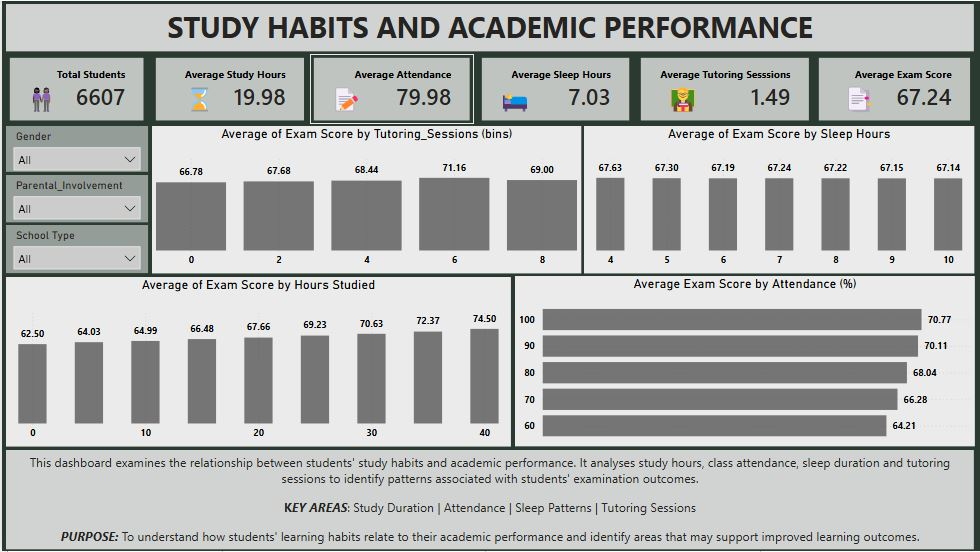

This screenshot's page, from the dashboard's own definition file:
{"tool":"powerbi","page":{"name":"Study Habits and Academic Performance","canvas":[1280,720],"ordinal":1},"visuals":[{"type":"textbox","box":[5.8,4.3,1267.2,61.9],"z":0},{"type":"clusteredColumnChart","fields":{"Category":["Student Performance Factors.Hours Studied"],"Y":["Avg(Student Performance Factors.Exam Score)"]},"box":[5.8,361.4,661,221.8],"z":1000},{"type":"clusteredBarChart","title":"Average Exam Score by Attendance (%)","fields":{"Category":["Student Performance Factors.Attendance (bins)"],"Y":["Avg(Student Performance Factors.Exam Score)"]},"box":[671,360,601.9,223.2],"z":2000},{"type":"clusteredColumnChart","fields":{"Category":["Student Performance Factors.Sleep Hours"],"Y":["Avg(Student Performance Factors.Exam Score)"]},"box":[761.8,164.2,511.2,193],"z":3000},{"type":"clusteredColumnChart","fields":{"Category":["Student Performance Factors.Tutoring_Sessions (bins)"],"Y":["Avg(Student Performance Factors.Exam Score)"]},"box":[195.8,164.2,561.6,193],"z":4000},{"type":"slicer","fields":{"Values":["Student Performance Factors.Gender"]},"box":[5.8,164.2,185.8,60.5],"z":5000},{"type":"slicer","fields":{"Values":["Student Performance Factors.School_Type"]},"box":[5.8,293.8,185.8,63.4],"z":6000},{"type":"slicer","fields":{"Values":["Student Performance Factors.Parental_Involvement"]},"box":[5.8,227.5,185.8,61.9],"z":7000},{"type":"cardVisual","fields":{"Data":["Student's Performance Measure.Total Students"]},"box":[5.8,69.1,185.8,92.2],"z":8000},{"type":"cardVisual","fields":{"Data":["Student's Performance Measure.Average Study Hours"]},"box":[195.8,69.1,204.5,92.2],"z":9000},{"type":"cardVisual","fields":{"Data":["Student's Performance Measure.Average Attendance"]},"box":[403.2,69.1,214.6,92.2],"z":10000},{"type":"cardVisual","fields":{"Data":["Student's Performance Measure.Average Sleep Hours"]},"box":[623.5,69.1,203,92.2],"z":11000},{"type":"cardVisual","fields":{"Data":["Student's Performance Measure.Average Tutoring Sesssions"]},"box":[830.9,69.1,230.4,92.2],"z":12000},{"type":"cardVisual","fields":{"Data":["Student's Performance Measure.Average Exam Score"]},"box":[1064.2,69.1,208.8,92.2],"z":13000},{"type":"textbox","box":[5.8,587.5,1267.2,129.6],"z":14000},{"type":"textbox","box":[1093,99.4,60.5,57.6],"z":15000},{"type":"textbox","box":[861.1,99.4,60.5,57.6],"z":16000},{"type":"textbox","box":[640.8,99.4,60.5,57.6],"z":17000},{"type":"textbox","box":[421.9,99.4,54.7,57.6],"z":18000},{"type":"textbox","box":[231.8,99.4,54.7,57.6],"z":19000},{"type":"textbox","box":[24.5,99.4,54.7,57.6],"z":20000}]}

Visuals, with their boxes in screenshot pixels (x1, y1, x2, y2), scaled from the page's 1280x720 canvas onto the 980x552 screenshot:
textbox: l=4, t=3, r=975, b=51
clusteredColumnChart - Student Performance Factors.Hours Studied x Avg(Student Performance Factors.Exam Score): l=4, t=277, r=511, b=447
"Average Exam Score by Attendance (%)" clusteredBarChart: l=514, t=276, r=975, b=447
clusteredColumnChart - Student Performance Factors.Sleep Hours x Avg(Student Performance Factors.Exam Score): l=583, t=126, r=975, b=274
clusteredColumnChart - Student Performance Factors.Tutoring_Sessions (bins) x Avg(Student Performance Factors.Exam Score): l=150, t=126, r=580, b=274
slicer - Student Performance Factors.Gender: l=4, t=126, r=147, b=172
slicer - Student Performance Factors.School_Type: l=4, t=225, r=147, b=274
slicer - Student Performance Factors.Parental_Involvement: l=4, t=174, r=147, b=222
cardVisual - Student's Performance Measure.Total Students: l=4, t=53, r=147, b=124
cardVisual - Student's Performance Measure.Average Study Hours: l=150, t=53, r=306, b=124
cardVisual - Student's Performance Measure.Average Attendance: l=309, t=53, r=473, b=124
cardVisual - Student's Performance Measure.Average Sleep Hours: l=477, t=53, r=633, b=124
cardVisual - Student's Performance Measure.Average Tutoring Sesssions: l=636, t=53, r=813, b=124
cardVisual - Student's Performance Measure.Average Exam Score: l=815, t=53, r=975, b=124
textbox: l=4, t=450, r=975, b=550
textbox: l=837, t=76, r=883, b=120
textbox: l=659, t=76, r=706, b=120
textbox: l=491, t=76, r=537, b=120
textbox: l=323, t=76, r=365, b=120
textbox: l=177, t=76, r=219, b=120
textbox: l=19, t=76, r=61, b=120
